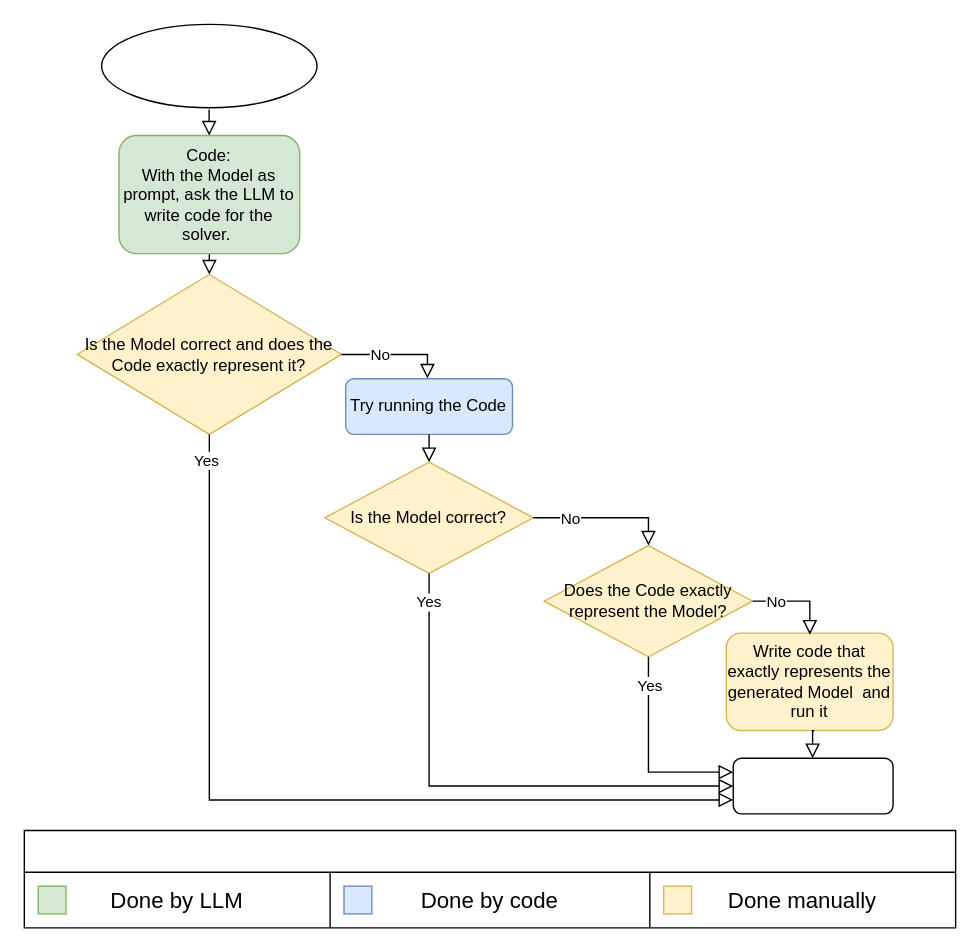
Image size: 980x952. Some labels were removed from this diagram. Here are the shapes that lost their labels. From the top down, the box of each, then its label:
(100, 23, 317, 108): Input: Mathematical Model
(732, 757, 893, 814): Save results
(23, 829, 956, 928): Legend
